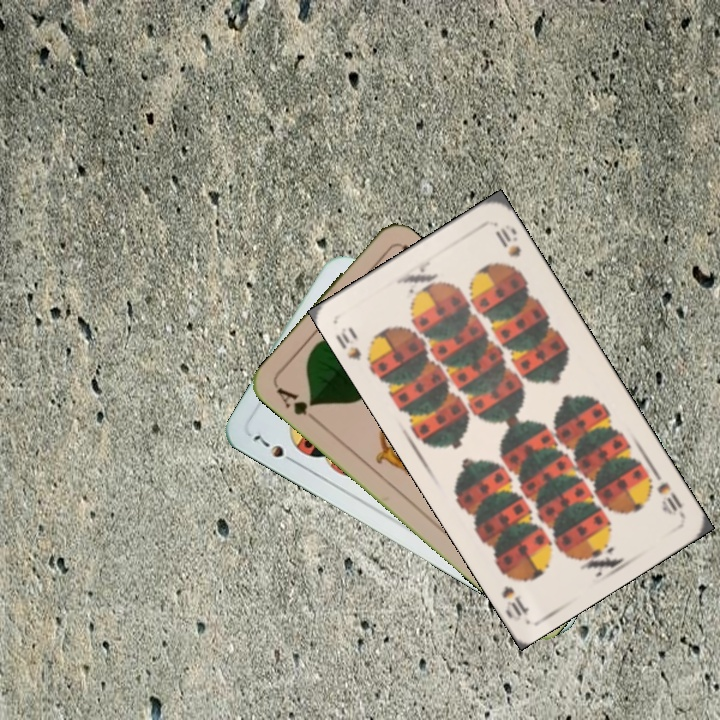GA: (272, 382, 323, 427)
S10: (332, 322, 378, 371), (652, 478, 686, 518)
S7: (249, 431, 301, 468)
